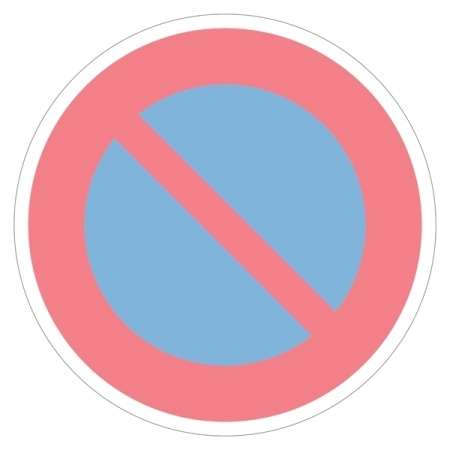Prohibition_sign: (1, 1, 449, 449)
